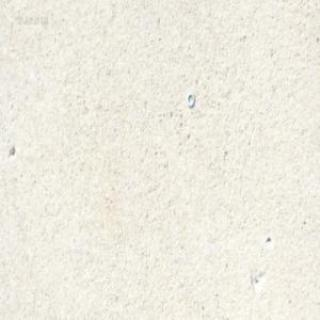Washertrack_idkeyframe: (186, 91, 194, 107)
